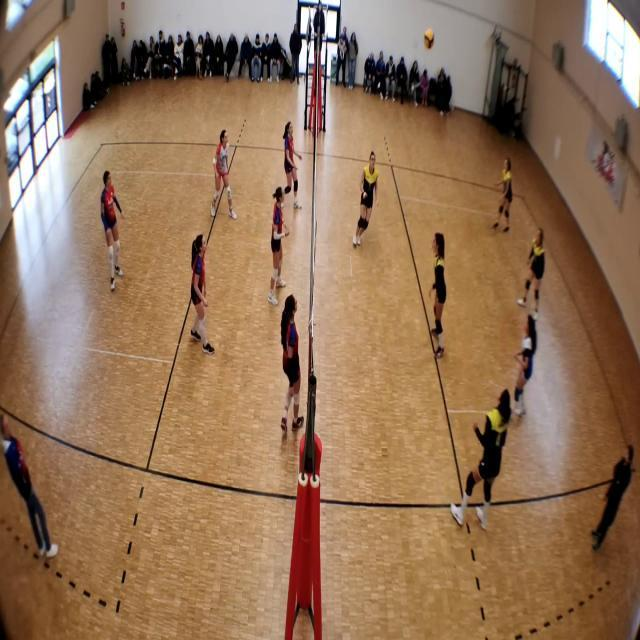volleyball: (423, 28, 435, 48)
